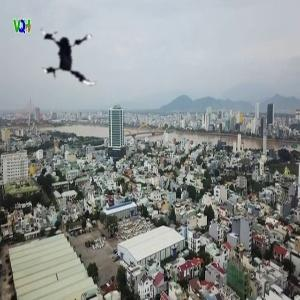drone: (28, 8, 119, 99)
